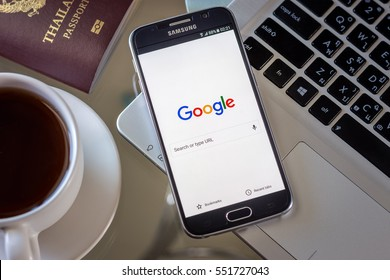Cell Phone: (126, 9, 299, 238)
